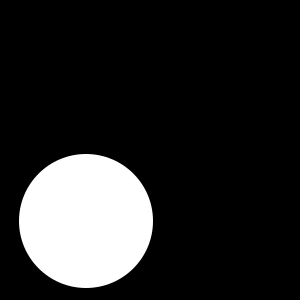rectangle: (19, 154, 153, 288), (64, 181, 142, 259)
